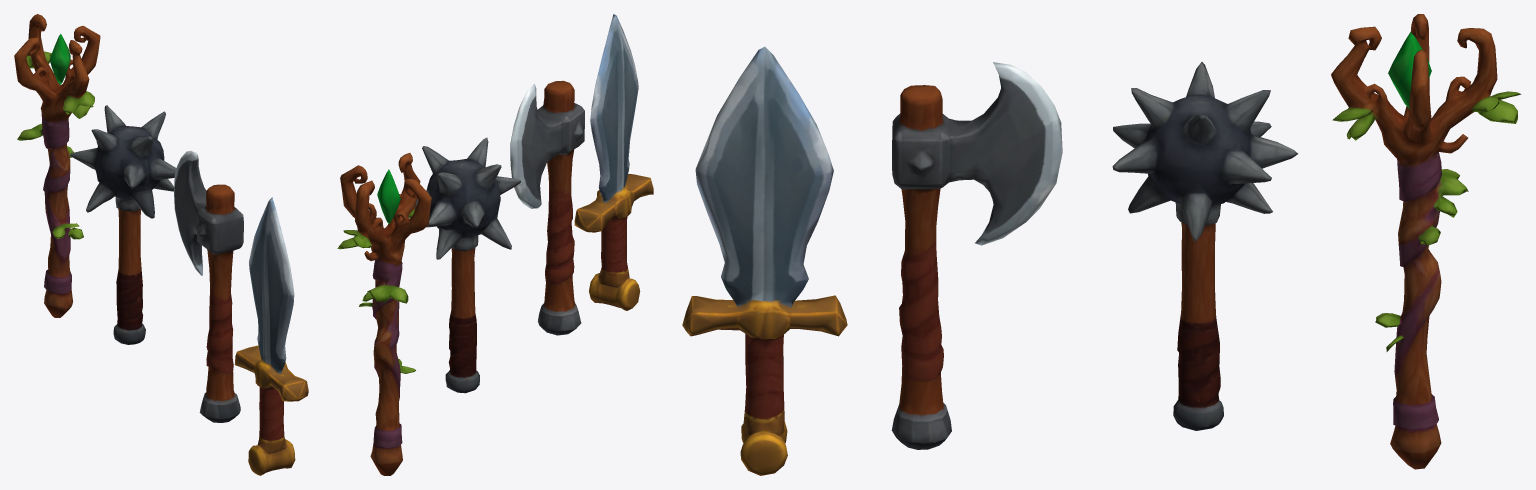
3 renders of one model, left to right at view 1: azimuth 30°, elevation 25°; view 2: azimuth 150°, elevation 25°; view 3: azimuth 270°, elevation 25°, orthographic. The views are drawn at different scales.
Visible parts, largest first — view 1: world; view 2: world; view 3: world.
Part boxes in pixels (bbox=[...]): world: bbox=[14, 14, 308, 475]; world: bbox=[337, 14, 653, 475]; world: bbox=[682, 14, 1521, 475].
Bounding box in the file's own units: 0.1879 × 0.5758 × 0.9978.
Materials: 1 (1 with a texture image).
